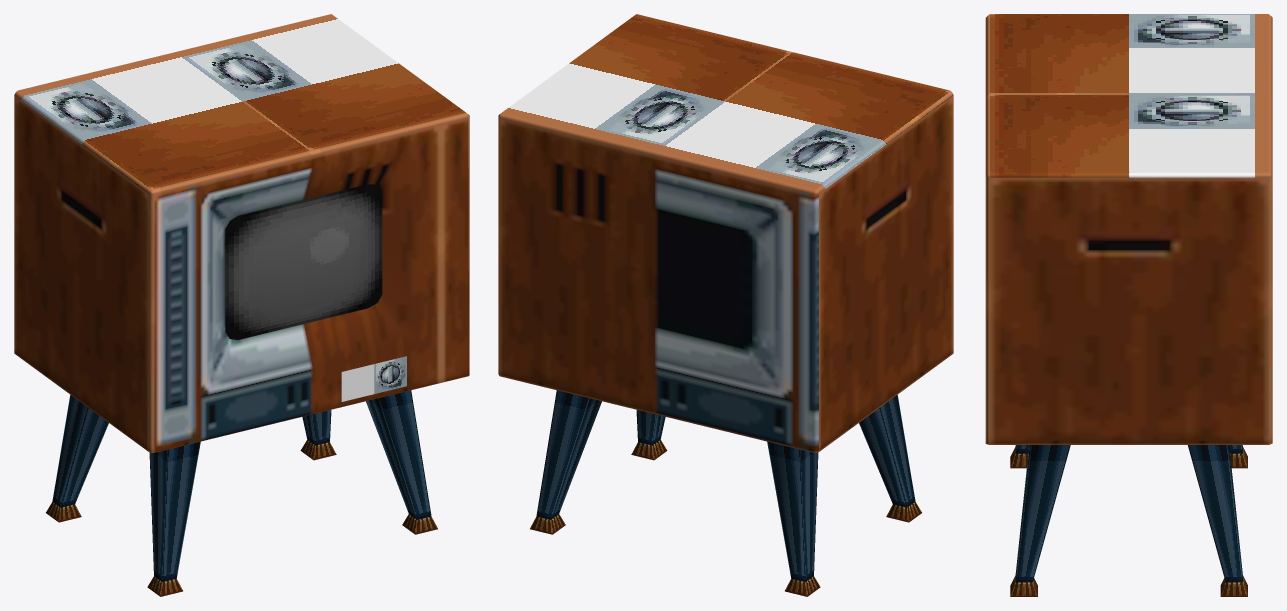
Rendered from int_oth_retro_tv.dae.
3 views of the same model, side by side, from view 1: azimuth 30°, elevation 25°; view 2: azimuth 150°, elevation 25°; view 3: azimuth 270°, elevation 25° (orthographic). The views are drawn at different scales.
Parts seen in each view (by area): view 1: int_oth_retro_tv; view 2: int_oth_retro_tv; view 3: int_oth_retro_tv.
Part boxes in pixels (box(x1,y1,x2,y2)): int_oth_retro_tv: box(14, 14, 469, 596); int_oth_retro_tv: box(498, 14, 953, 596); int_oth_retro_tv: box(985, 14, 1272, 596).
Bounding box in the file's own units: 30.95 × 38.69 × 23.5.
Materials: 4 (4 with a texture image).
